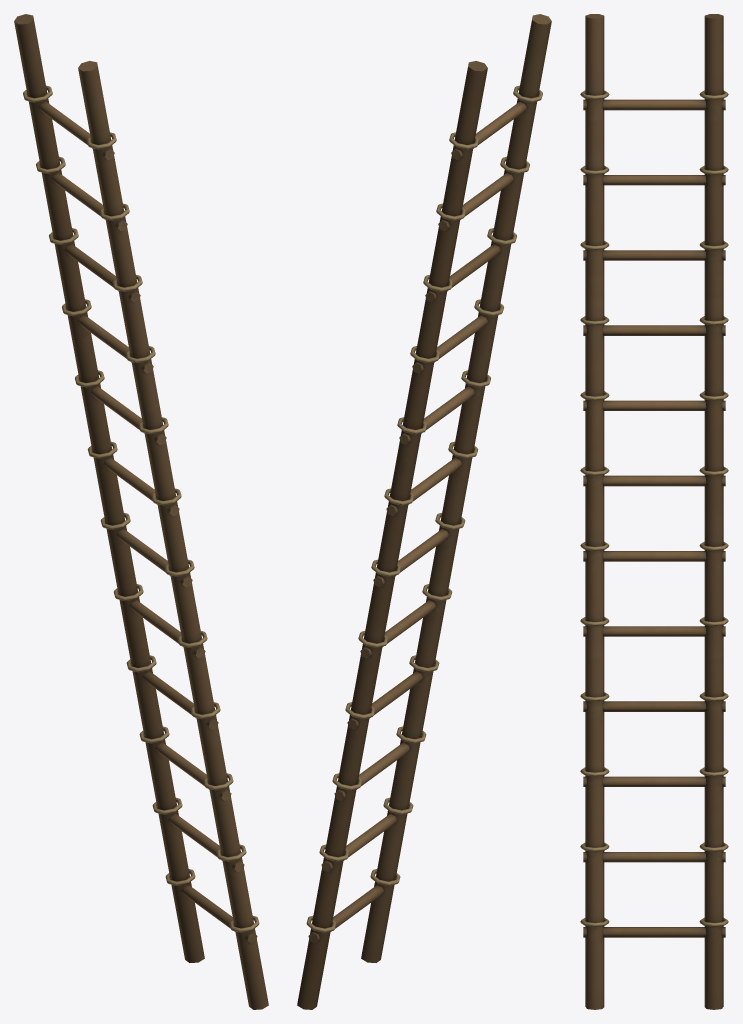
File: ladder.glb
The picture shows the model from 3 angles, left to right: view 1: azimuth 30°, elevation 25°; view 2: azimuth 150°, elevation 25°; view 3: azimuth 270°, elevation 25°; orthographic projection. The views are drawn at different scales.
Visible parts, largest first — view 1: ladder.001; view 2: ladder.001; view 3: ladder.001.
Boxes of the visible parts, box(x1,y1,x2,y2) form: ladder.001: box(14, 14, 268, 1009); ladder.001: box(297, 14, 551, 1009); ladder.001: box(580, 14, 728, 1009).
Size of the model in its own units: 0.7801 by 3.9 by 0.573.
1 material, 1 textured.
